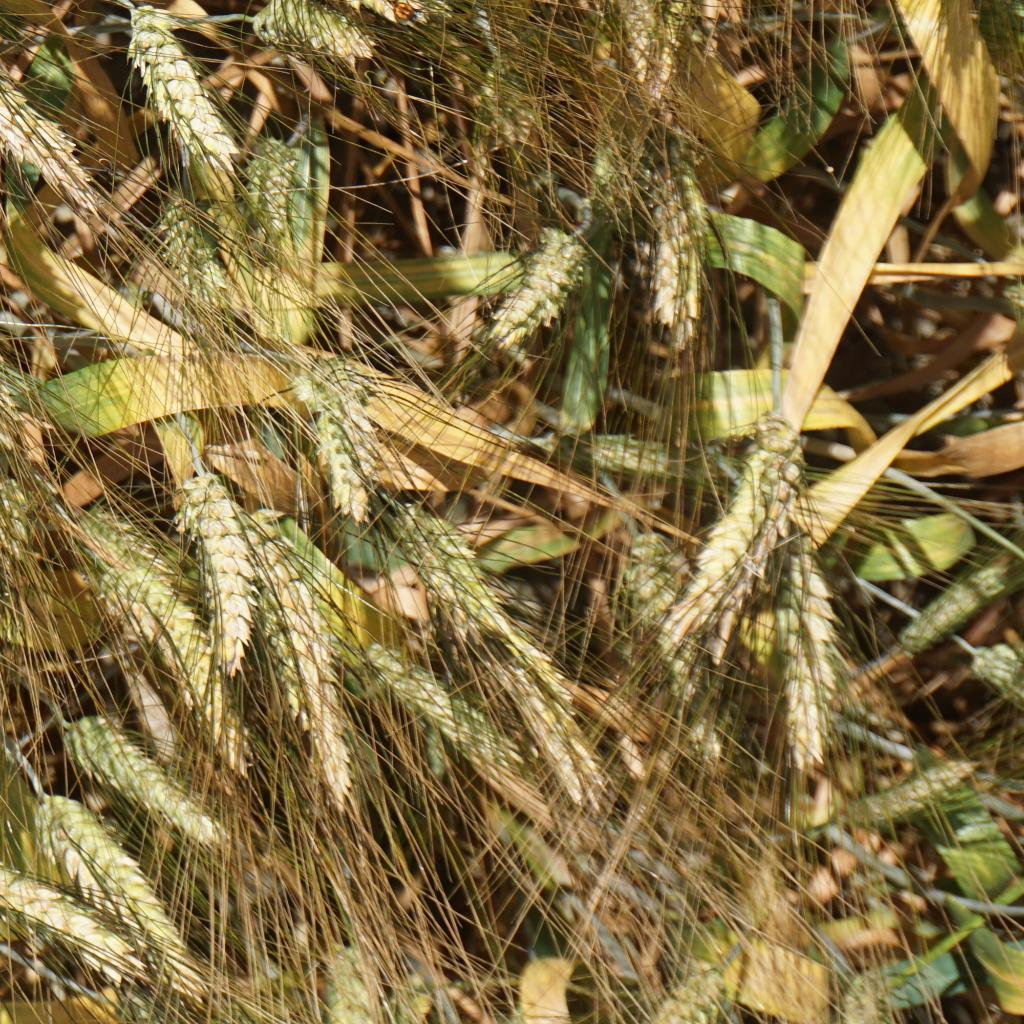0-0: (38, 783, 230, 1016), (683, 393, 813, 636), (60, 696, 237, 852), (248, 545, 350, 791), (0, 846, 169, 993), (161, 460, 267, 689), (120, 2, 248, 180), (361, 634, 504, 766), (634, 143, 721, 358), (390, 507, 523, 646), (285, 353, 382, 528), (100, 571, 223, 705), (476, 215, 592, 357), (482, 653, 594, 799), (769, 552, 841, 762), (516, 415, 712, 487), (817, 751, 984, 826), (244, 0, 388, 81), (606, 0, 687, 128), (150, 199, 234, 311), (641, 945, 747, 1024), (473, 47, 552, 152), (239, 133, 309, 250), (266, 0, 442, 36), (0, 0, 38, 163), (73, 501, 159, 568), (617, 517, 671, 622), (312, 941, 379, 1024), (826, 962, 892, 1024), (0, 316, 26, 450), (967, 636, 1024, 697), (0, 489, 20, 596)
